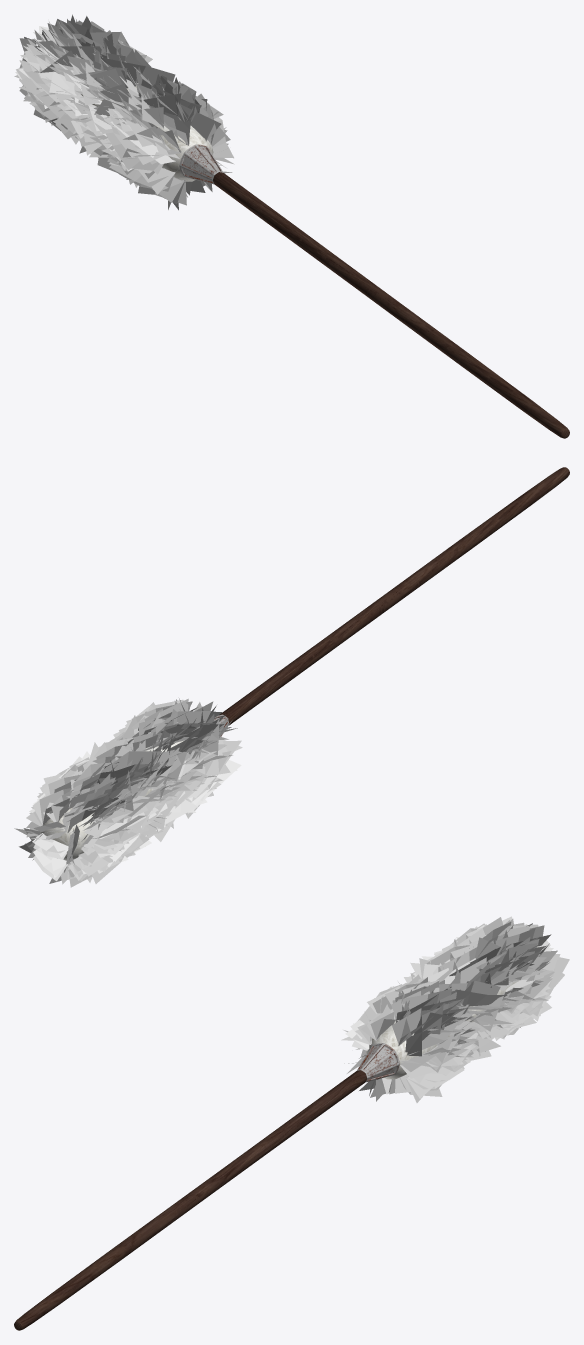
Rendered from Spolverino.fbx.
3 renders of one model, top to bottom at view 1: azimuth 30°, elevation 25°; view 2: azimuth 150°, elevation 25°; view 3: azimuth 330°, elevation 25°, orthographic. The views are drawn at different scales.
Visible parts, largest first — view 1: Spolverino; view 2: Spolverino; view 3: Spolverino.
Part boxes in pixels (x1=…): Spolverino: x1=14, y1=14, x2=569, y2=438; Spolverino: x1=14, y1=467, x2=569, y2=887; Spolverino: x1=14, y1=916, x2=569, y2=1330.
Size of the model in its own units: 99.66 by 12.1 by 12.31.
